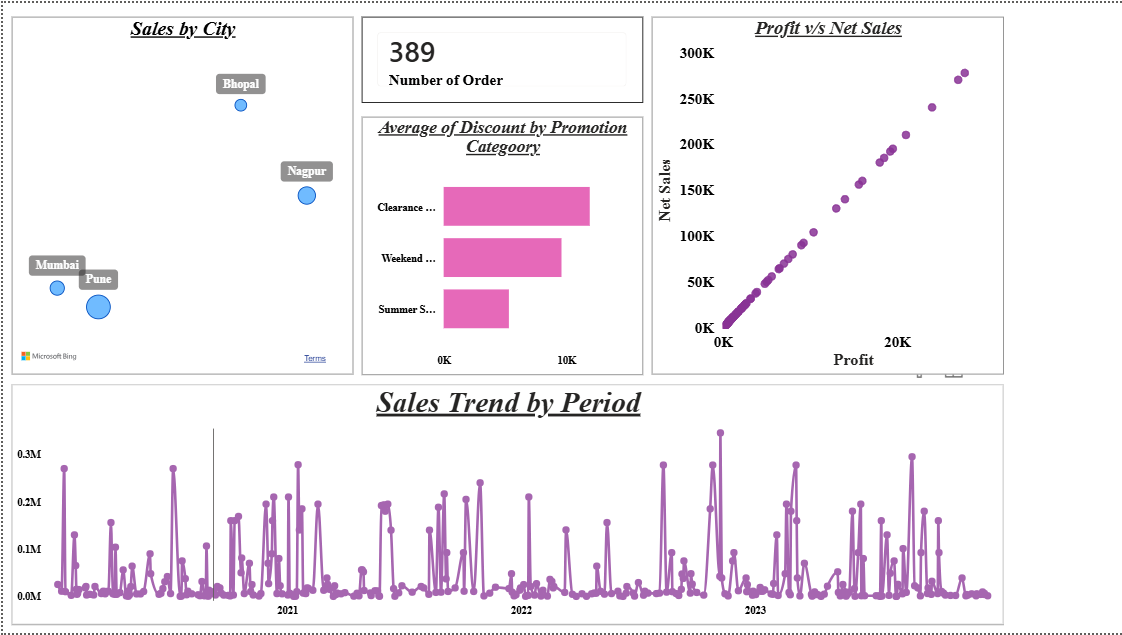

The dashboard page shown, as its layout file describes it:
{"tool":"powerbi","page":{"name":"Overview","canvas":[1280,720],"ordinal":0},"visuals":[{"type":"lineChart","title":"Sales Trend by Period","fields":{"Y":["Sum(Fact Data.Net Sales)"],"Category":["Fact Data.Date (dd/mm/yyyy).Variation.Date Hierarchy.Year"]},"box":[10,435,1133.8,275],"z":0},{"type":"scatterChart","title":"Profit v/s Net Sales","fields":{"X":["Fact Data.Profit"],"Y":["Fact Data.Net Sales"]},"box":[741.2,16.2,402.5,408.8],"z":1000},{"type":"barChart","title":"Average of Discount  by Promotion Categoory","fields":{"Y":["Avg(Fact Data.Discount Value)"],"Category":["Dim Promotion.Promotion Name"]},"box":[410,130,321.2,295],"z":2000},{"type":"map","title":"Sales by City","fields":{"Category":["Dim Customers.City"],"Size":["Sum(Fact Data.Net Sales)"]},"box":[10,16.2,390,408.8],"z":3000},{"type":"cardVisual","fields":{"Data":["CountNonNull(Fact Data.Order ID)"]},"box":[410,16.2,321.2,98.8],"z":4000}]}

Visuals, with their boxes in screenshot pixels (x1, y1, x2, y2), scaled from the page's 1280x720 canvas onto the 1122x635 screenshot:
"Sales Trend by Period" lineChart: box=[9, 384, 1003, 626]
"Profit v/s Net Sales" scatterChart: box=[650, 14, 1003, 375]
"Average of Discount  by Promotion Categoory" barChart: box=[359, 115, 641, 375]
"Sales by City" map: box=[9, 14, 351, 375]
cardVisual - CountNonNull(Fact Data.Order ID): box=[359, 14, 641, 101]
